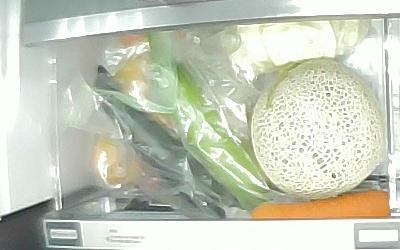cabbage: (225, 18, 369, 77)
carrot: (250, 189, 391, 220)
eggplant_vinyl: (90, 66, 231, 209)
melon: (250, 57, 388, 201)
zucchini_vinyl: (152, 54, 270, 210)
